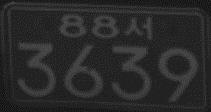3: (110, 44, 152, 100), (16, 40, 55, 99)
6: (62, 43, 105, 99)
8: (58, 12, 86, 38), (91, 13, 119, 39)
9: (156, 46, 198, 102)
서: (124, 14, 152, 39)
